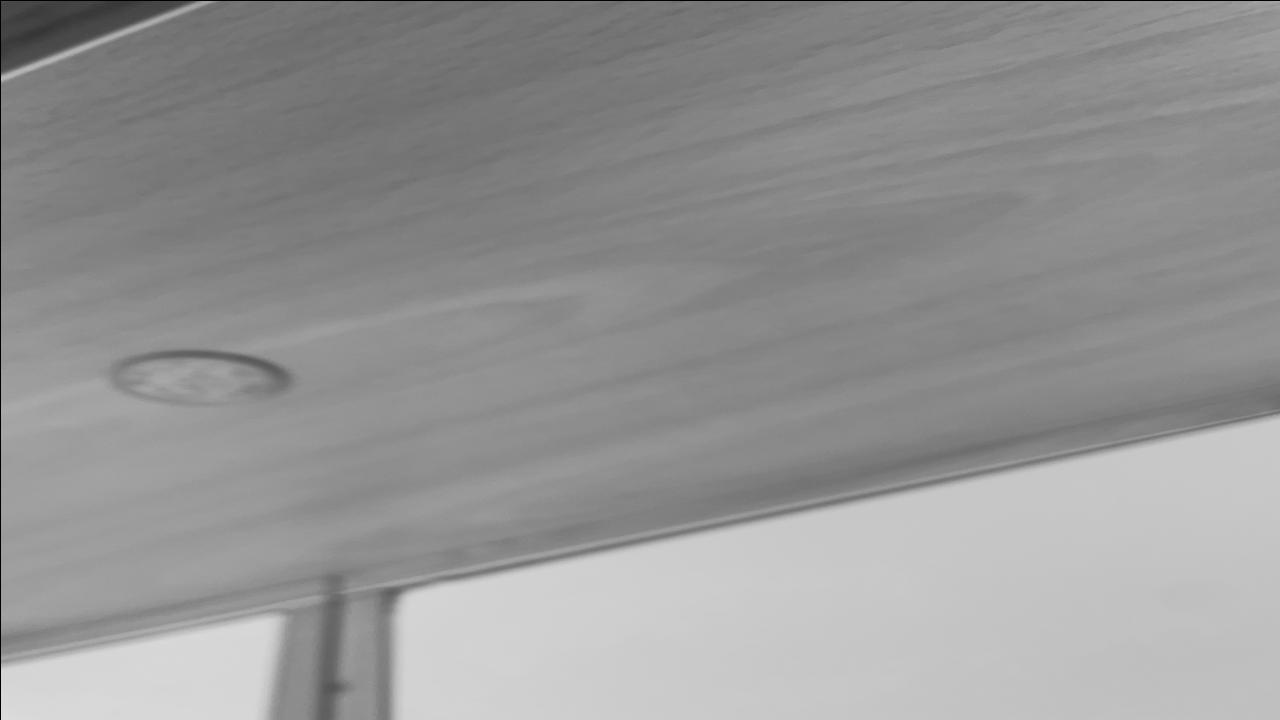coin: (101, 349, 296, 409)
